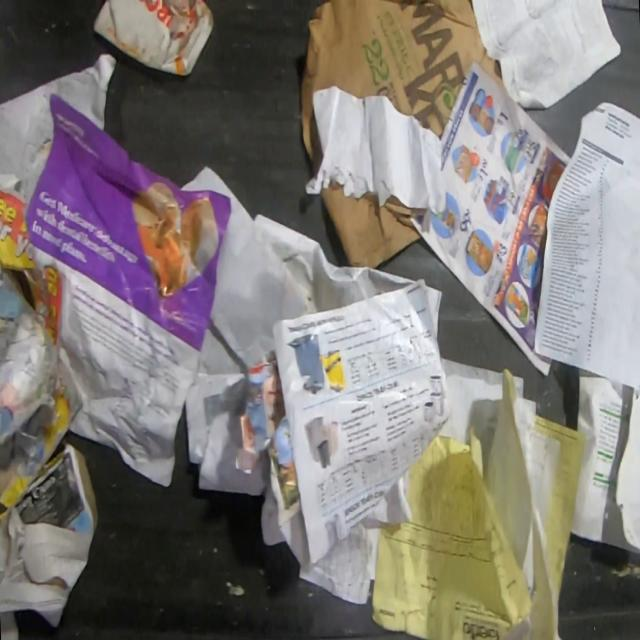cardboard: (299, 0, 505, 175), (320, 182, 427, 269), (94, 0, 215, 76)
